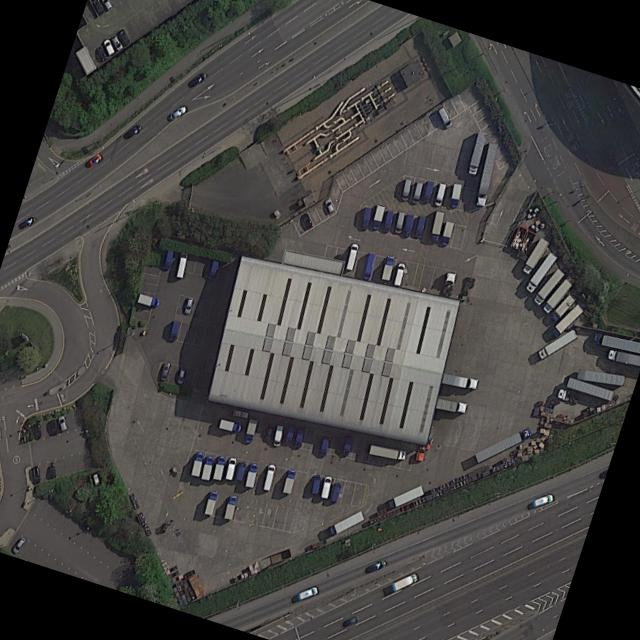large-vehicle: (474, 425, 533, 464), (475, 141, 500, 206), (524, 249, 559, 294), (531, 266, 567, 307), (537, 327, 578, 360), (541, 276, 575, 314), (551, 301, 585, 338), (521, 236, 551, 276), (591, 330, 640, 354), (327, 509, 366, 536), (387, 483, 426, 510), (549, 291, 578, 324), (467, 130, 488, 175), (439, 370, 481, 390), (369, 442, 409, 460), (434, 397, 469, 415), (607, 347, 640, 366), (391, 571, 420, 592), (430, 209, 446, 241), (362, 251, 378, 280), (371, 203, 387, 230), (440, 219, 456, 246), (137, 292, 162, 309), (201, 453, 216, 481), (224, 492, 239, 520), (191, 450, 207, 476), (204, 489, 220, 515), (243, 417, 259, 443), (218, 417, 244, 433), (213, 454, 228, 481), (245, 461, 260, 488), (282, 468, 297, 494), (381, 254, 396, 279), (414, 213, 428, 239), (422, 178, 435, 204), (450, 182, 463, 208), (361, 205, 374, 230), (207, 257, 221, 280), (341, 434, 355, 457), (168, 318, 181, 342), (383, 208, 395, 233), (403, 212, 415, 237), (331, 480, 344, 503), (294, 425, 306, 448), (284, 422, 296, 445), (163, 248, 175, 270), (236, 460, 248, 481), (319, 436, 331, 457), (311, 473, 322, 495)
small-vehicle: (166, 102, 188, 122), (263, 462, 278, 491), (175, 251, 190, 278), (346, 242, 360, 270), (297, 584, 320, 601), (532, 492, 555, 509), (438, 105, 454, 129), (123, 121, 143, 140), (189, 69, 209, 87), (393, 261, 407, 286), (434, 181, 448, 206), (321, 474, 334, 499), (116, 27, 132, 47), (367, 558, 388, 573), (11, 535, 27, 554), (272, 423, 285, 446), (411, 181, 424, 204), (87, 151, 104, 168), (394, 210, 406, 234), (401, 178, 413, 201), (110, 33, 125, 51), (103, 37, 117, 56), (160, 360, 172, 381), (21, 214, 37, 229), (301, 212, 314, 230), (96, 43, 108, 62), (343, 614, 360, 627), (324, 196, 336, 214), (184, 295, 195, 314), (93, 0, 106, 16), (176, 367, 188, 384), (58, 414, 69, 432), (32, 464, 41, 484), (50, 418, 60, 436), (34, 421, 43, 440), (264, 425, 274, 441), (48, 463, 57, 479), (102, 0, 114, 11)
